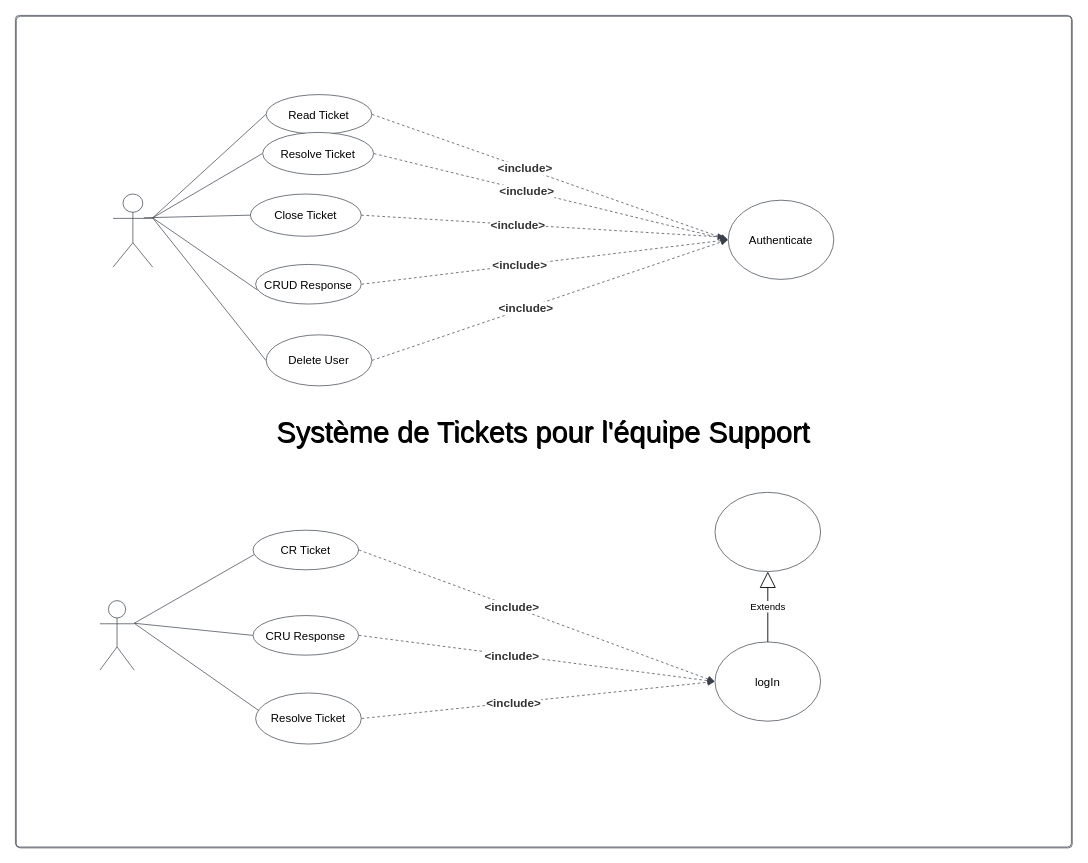
This 1088x863 diagram has some shape labels left out. Here are the shapes that lost their labels. From the top down, the centre of each, then its label:
pixel 132 230: Admin
pixel 767 531: Register
pixel 116 635: Client
